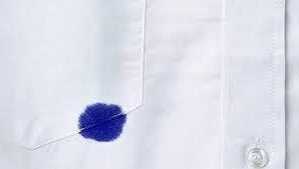ink: (77, 104, 125, 142)
